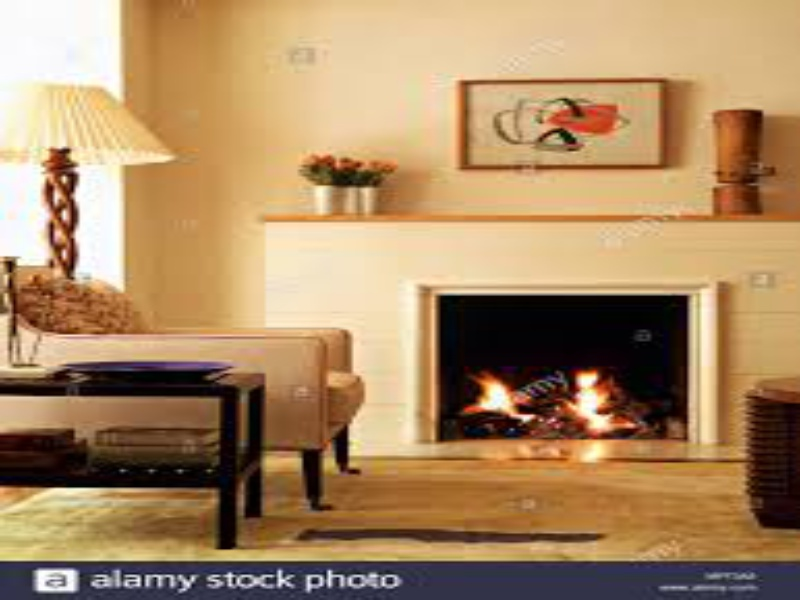fire: (458, 357, 648, 440)
